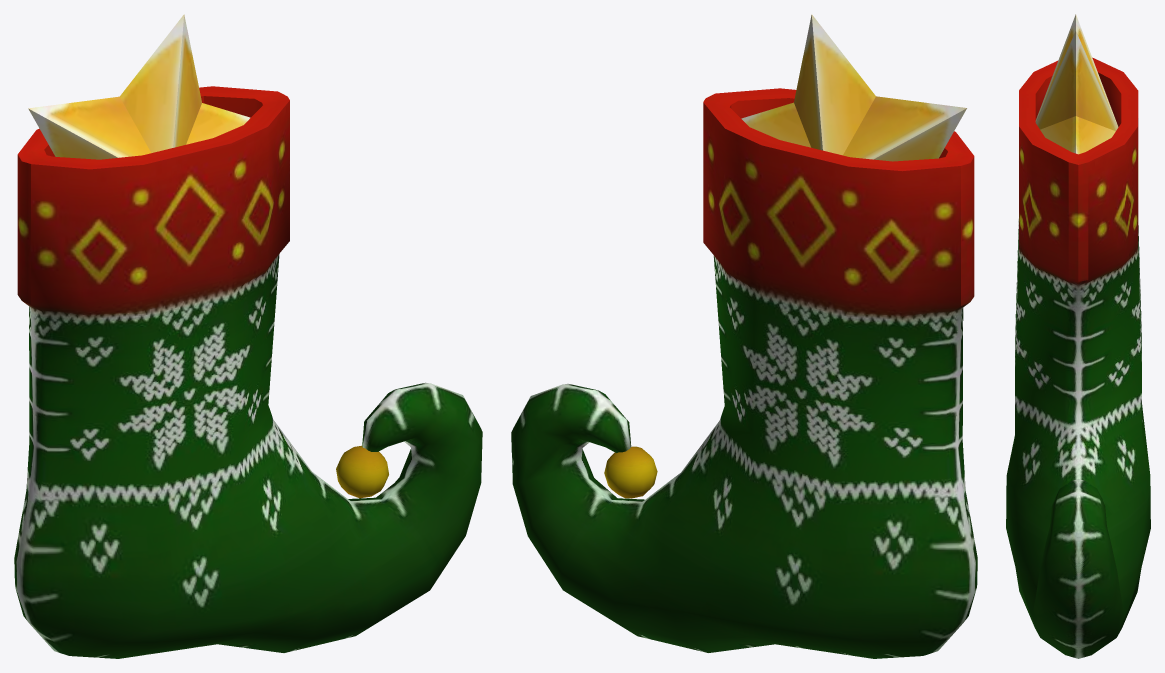
The model's file is stocking_small_deployed.glb.
The picture shows the model from 3 angles, left to right: view 1: azimuth 30°, elevation 25°; view 2: azimuth 150°, elevation 25°; view 3: azimuth 270°, elevation 25°; orthographic projection. The views are drawn at different scales.
Parts seen in each view (by area): view 1: Sock_1, Star; view 2: Sock_1, Star; view 3: Sock_1, Star.
Boxes of the visible parts, box(x1,y1,x2,y2) form: Sock_1: box(14, 86, 482, 658); Star: box(28, 14, 250, 159); Sock_1: box(511, 88, 977, 658); Star: box(741, 14, 966, 161); Sock_1: box(1006, 57, 1150, 658); Star: box(1035, 14, 1118, 154).
Size of the model in its own units: 0.3546 by 0.4847 by 0.1149.
Materials: 2 (2 with a texture image).
